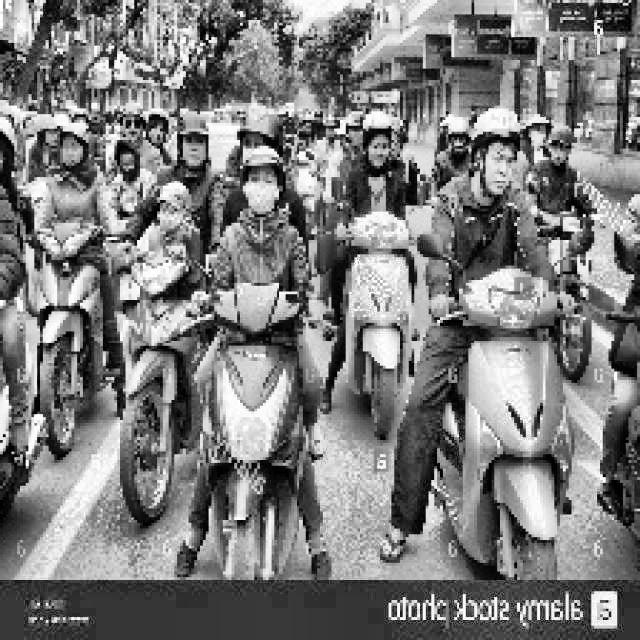motorcycle: (422, 227, 570, 581), (186, 255, 324, 572), (14, 197, 112, 447), (321, 189, 414, 439), (106, 228, 184, 522), (538, 169, 598, 384)
